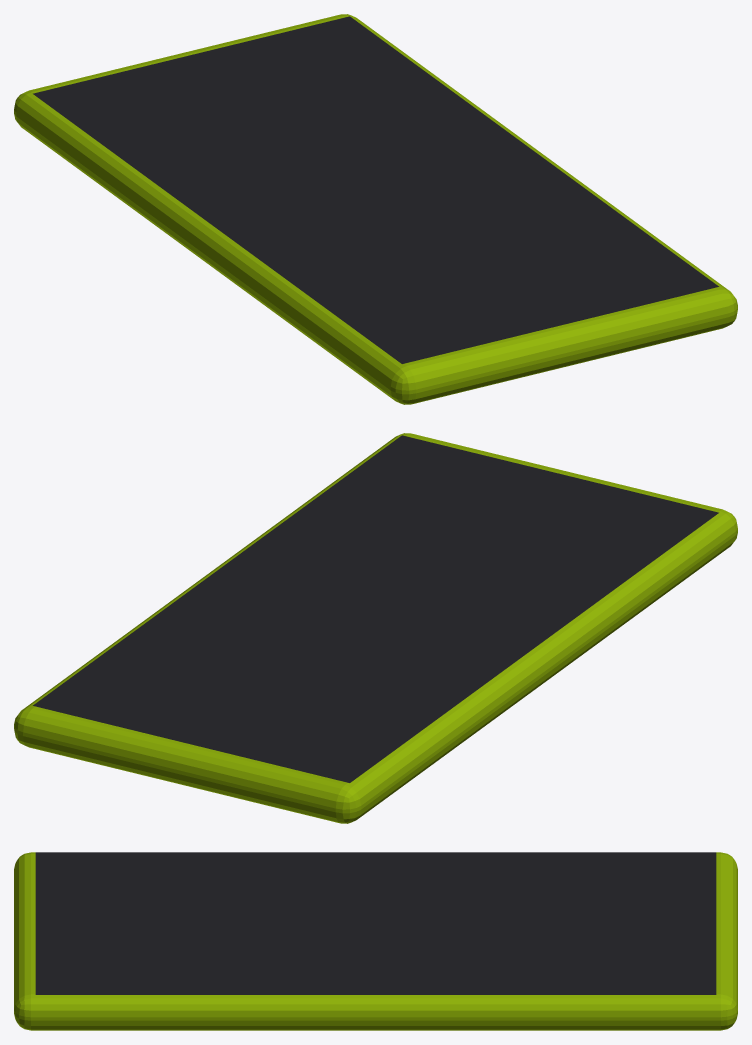
The model's file is xiaomi-redmi-model-111-flagship-2021.glb.
3 renders of one model, top to bottom at view 1: azimuth 30°, elevation 25°; view 2: azimuth 150°, elevation 25°; view 3: azimuth 270°, elevation 25°, orthographic. The views are drawn at different scales.
Visible parts, largest first — view 1: Phone_Screen, Phone_Body; view 2: Phone_Screen, Phone_Body; view 3: Phone_Screen, Phone_Body.
Part boxes in pixels (box(x1,y1,x2,y2)): Phone_Screen: box(33, 16, 718, 363); Phone_Body: box(14, 14, 737, 404); Phone_Screen: box(33, 435, 718, 782); Phone_Body: box(14, 433, 737, 823); Phone_Screen: box(35, 852, 716, 994); Phone_Body: box(14, 852, 737, 1030).
Bounding box in the file's own units: 0.076 × 0.008 × 0.15.
